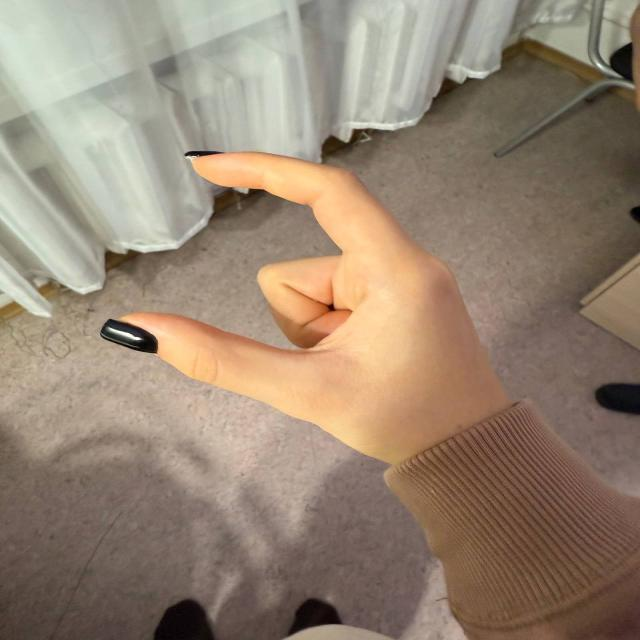uh: (85, 124, 523, 436)
